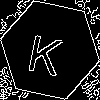K: (25, 25, 67, 77)
